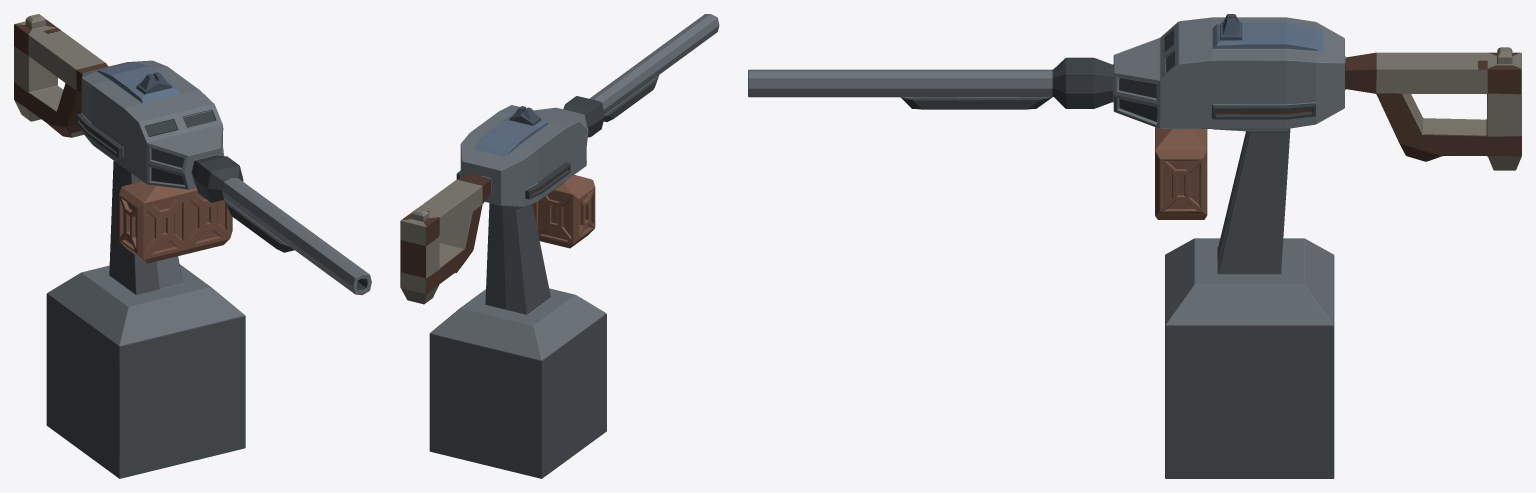
Rendered from MARINE_Wapen_turret_02.fbx.
3 renders of one model, left to right at view 1: azimuth 30°, elevation 25°; view 2: azimuth 150°, elevation 25°; view 3: azimuth 270°, elevation 25°, orthographic. The views are drawn at different scales.
Parts seen in each view (by area): view 1: wapen_turet_01; view 2: wapen_turet_01; view 3: wapen_turet_01.
Part boxes in pixels (<box>): wapen_turet_01: <box>14,14,371,478</box>; wapen_turet_01: <box>400,14,719,478</box>; wapen_turet_01: <box>748,14,1521,478</box>.
Bounding box in the file's own units: 32.31 × 89.85 × 148.
